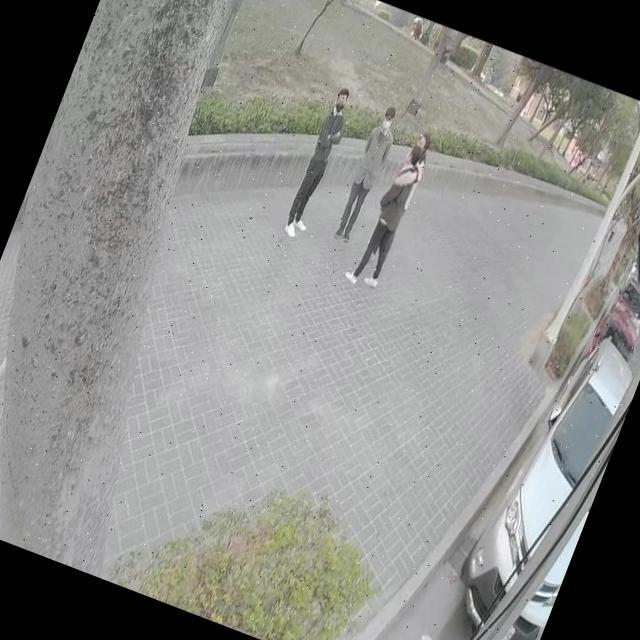person: (337, 135, 430, 301), (282, 86, 357, 240), (331, 102, 404, 245), (390, 125, 440, 215)
